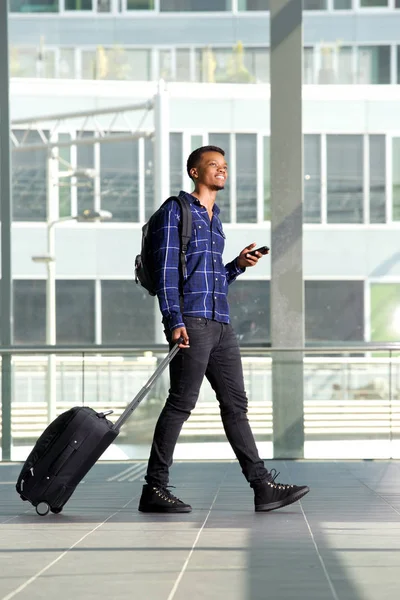person: (129, 143, 305, 518)
